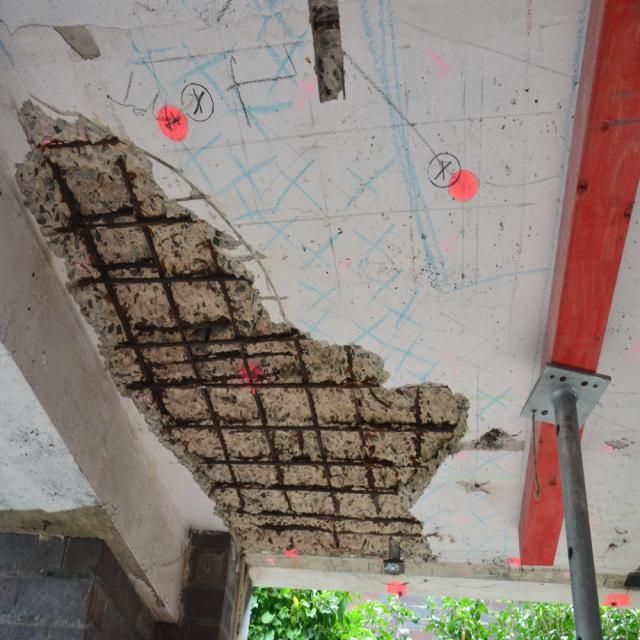Spalling: (16, 101, 467, 558)
